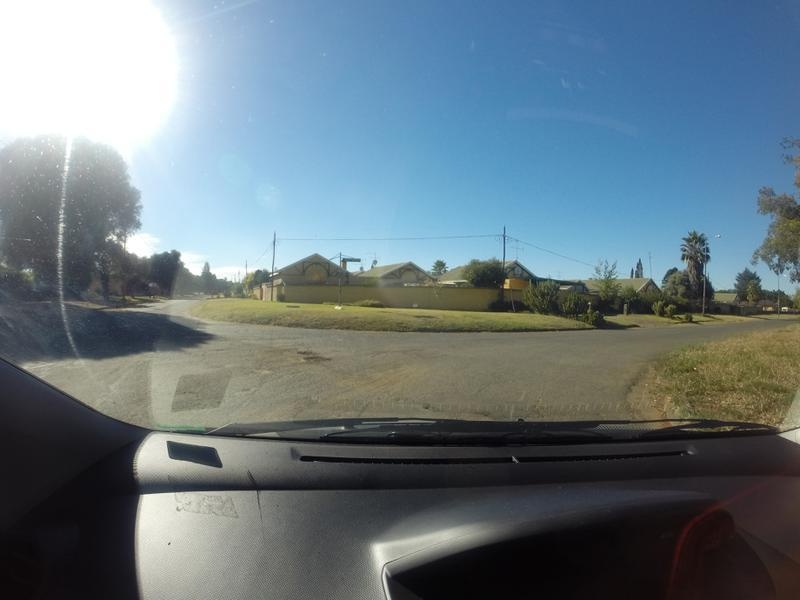pothole: (282, 334, 335, 380)
